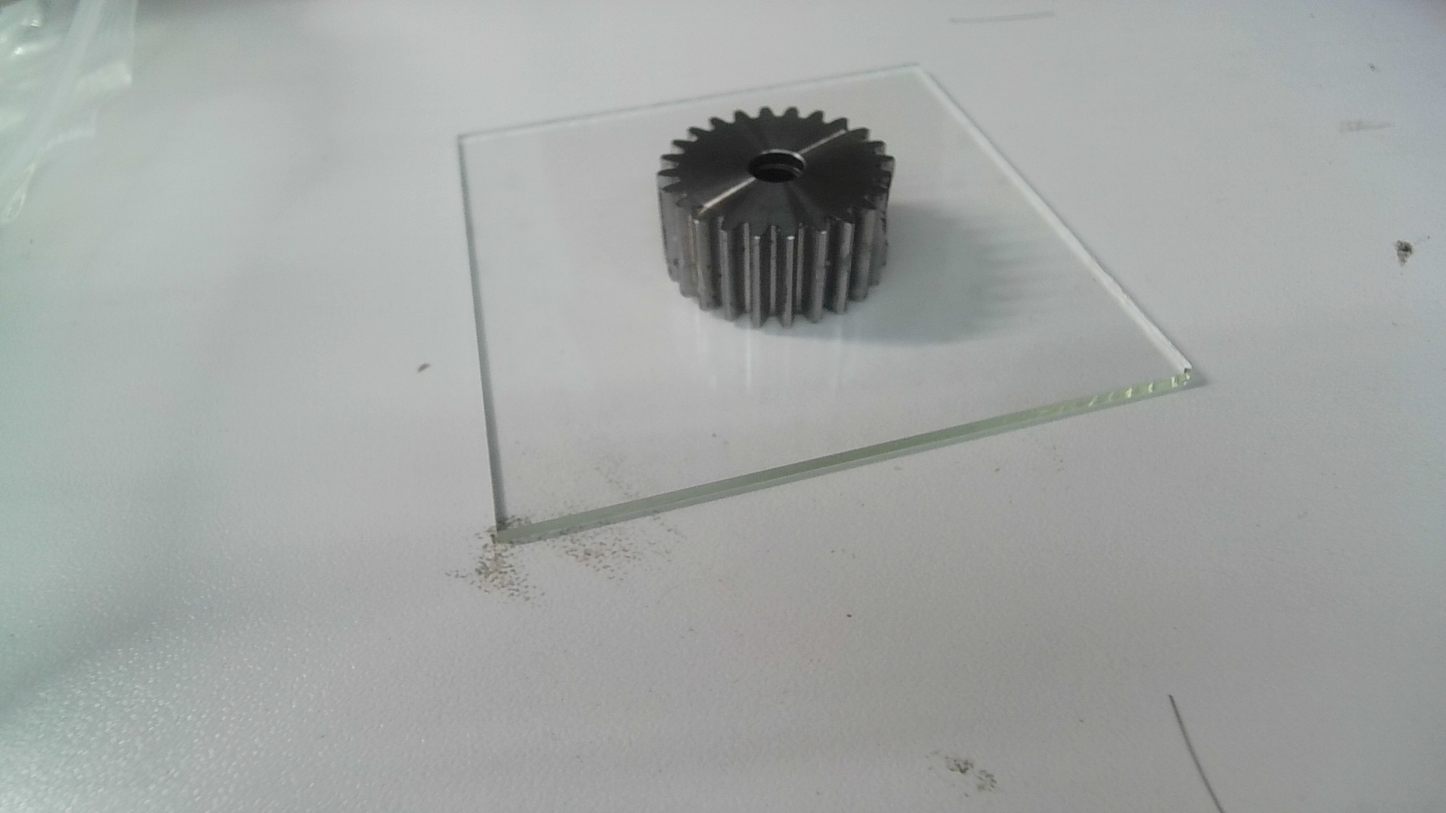gear: (653, 104, 898, 335)
